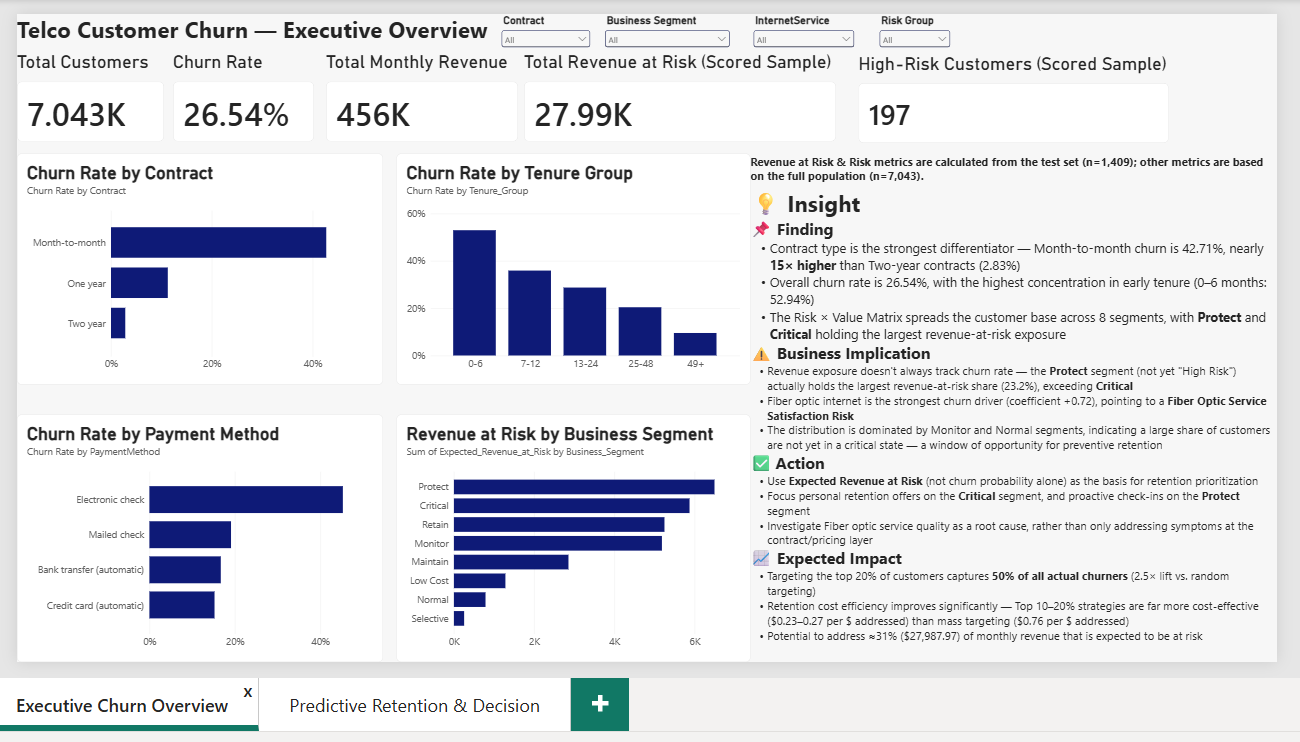

Layout of this report page (visuals, bound fields, positions):
{"tool":"powerbi","page":{"name":"Executive Overview","canvas":[2100,1080],"ordinal":0},"visuals":[{"type":"textbox","box":[0,0,835,62.5],"z":0},{"type":"cardVisual","title":"Total Customers","fields":{"Data":["Count(telco_customer_clean.customerID)"]},"box":[0,62.5,245,150],"z":1000},{"type":"cardVisual","title":"Churn Rate","fields":{"Data":["Card Measures S1.Churn Rate"]},"box":[260,62.5,235,150],"z":2000},{"type":"cardVisual","title":"Total Monthly Revenue","fields":{"Data":["Sum(telco_customer_clean.MonthlyCharges)"]},"box":[515,62.5,320,150],"z":3000},{"type":"cardVisual","title":"Total Revenue at Risk (Scored Sample)","fields":{"Data":["Sum(retention_strategy_final.Expected_Revenue_at_Risk)"]},"box":[845,62.5,520,150],"z":4000},{"type":"cardVisual","title":"High-Risk Customers (Scored Sample)","fields":{"Data":["Count(customer_retention_scoring.customerID)"]},"box":[1402.5,65,517.5,150],"z":5000},{"type":"clusteredBarChart","title":"Churn Rate by Contract","fields":{"Category":["telco_customer_clean.Contract"],"Y":["Card Measures S1.Churn Rate"]},"box":[0,232.5,610,385],"z":6000},{"type":"clusteredColumnChart","title":"Churn Rate by Tenure Group","fields":{"Category":["telco_customer_clean.Tenure_Group"],"Y":["Card Measures S1.Churn Rate"]},"box":[632.5,232.5,590,385],"z":7000},{"type":"clusteredBarChart","title":"Churn Rate by Payment Method","fields":{"Category":["telco_customer_clean.PaymentMethod"],"Y":["Card Measures S1.Churn Rate"]},"box":[0,667.5,610,412.5],"z":8000},{"type":"clusteredBarChart","title":"Revenue at Risk by Business Segment","fields":{"Category":["retention_strategy_final.Business_Segment"],"Y":["Sum(retention_strategy_final.Expected_Revenue_at_Risk)"]},"box":[632.5,667.5,590,412.5],"z":9000},{"type":"slicer","fields":{"Values":["retention_strategy_final.Contract"]},"box":[802.5,0,157.5,65],"z":10000},{"type":"slicer","fields":{"Values":["retention_strategy_final.Business_Segment"]},"box":[975,0,217.5,62.5],"z":11000},{"type":"slicer","fields":{"Values":["telco_customer_clean.InternetService"]},"box":[1222.5,0,177.5,65],"z":12000},{"type":"slicer","fields":{"Values":["customer_retention_scoring.Risk_Group"]},"box":[1432.5,0,127.5,62.5],"z":13000},{"type":"textbox","box":[1222.5,232.5,877.5,57.5],"z":14000},{"type":"textbox","box":[1223.3,290,876.7,790],"z":15000}]}

Visuals, with their boxes on the page's 2100x1080 design canvas (x1, y1, x2, y2). These are canvas units, not pixel positions in the 1300x742 screenshot, which may show the page scaled, cropped or inside an application window:
textbox: (x1=0, y1=0, x2=835, y2=62)
"Total Customers" cardVisual: (x1=0, y1=62, x2=245, y2=212)
"Churn Rate" cardVisual: (x1=260, y1=62, x2=495, y2=212)
"Total Monthly Revenue" cardVisual: (x1=515, y1=62, x2=835, y2=212)
"Total Revenue at Risk (Scored Sample)" cardVisual: (x1=845, y1=62, x2=1365, y2=212)
"High-Risk Customers (Scored Sample)" cardVisual: (x1=1402, y1=65, x2=1920, y2=215)
"Churn Rate by Contract" clusteredBarChart: (x1=0, y1=232, x2=610, y2=618)
"Churn Rate by Tenure Group" clusteredColumnChart: (x1=632, y1=232, x2=1222, y2=618)
"Churn Rate by Payment Method" clusteredBarChart: (x1=0, y1=668, x2=610, y2=1080)
"Revenue at Risk by Business Segment" clusteredBarChart: (x1=632, y1=668, x2=1222, y2=1080)
slicer - retention_strategy_final.Contract: (x1=802, y1=0, x2=960, y2=65)
slicer - retention_strategy_final.Business_Segment: (x1=975, y1=0, x2=1192, y2=62)
slicer - telco_customer_clean.InternetService: (x1=1222, y1=0, x2=1400, y2=65)
slicer - customer_retention_scoring.Risk_Group: (x1=1432, y1=0, x2=1560, y2=62)
textbox: (x1=1222, y1=232, x2=2100, y2=290)
textbox: (x1=1223, y1=290, x2=2100, y2=1080)
